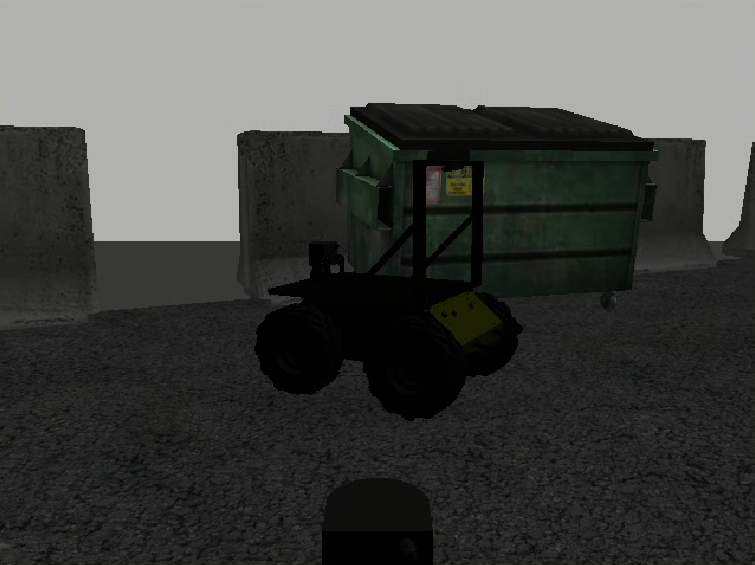husky: (254, 272, 524, 421)
